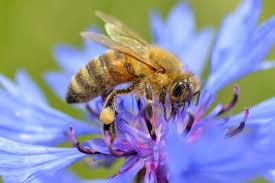Apis-mellifera-scutellata: (59, 7, 206, 140)
